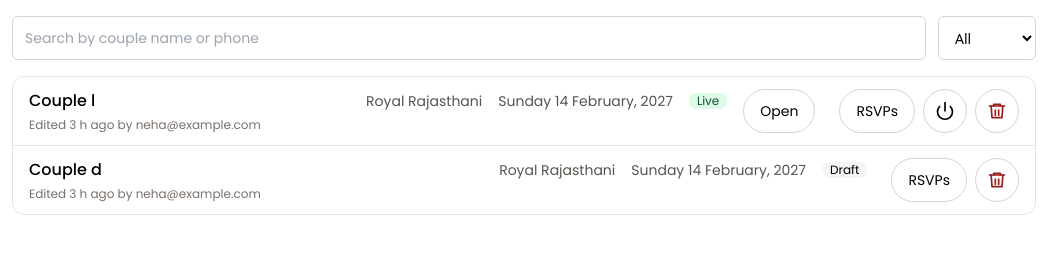
Test case: InvitationList › row actions › shows a conflict, a returned message, and the offline message on the row
Click the button named "Take offline: Couple l".
click(945, 111)  # box x1=923 y1=89 x2=967 y2=133
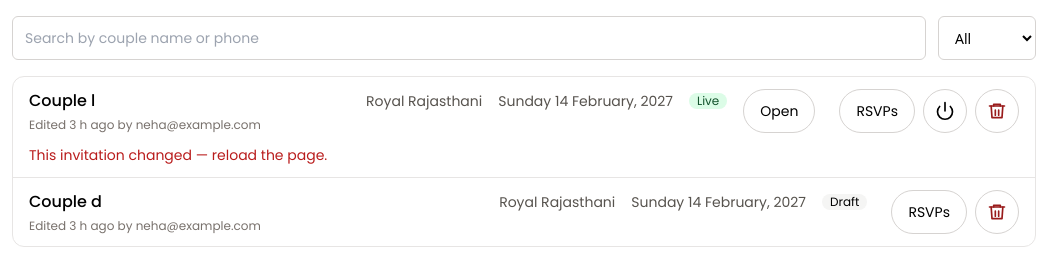
Result: the message reads "This invitation changed — reload the page." at x1=29 y1=145 x2=327 y2=165
Click the button named "Take offline: Couple l".
click(945, 111)  # box x1=923 y1=89 x2=967 y2=133
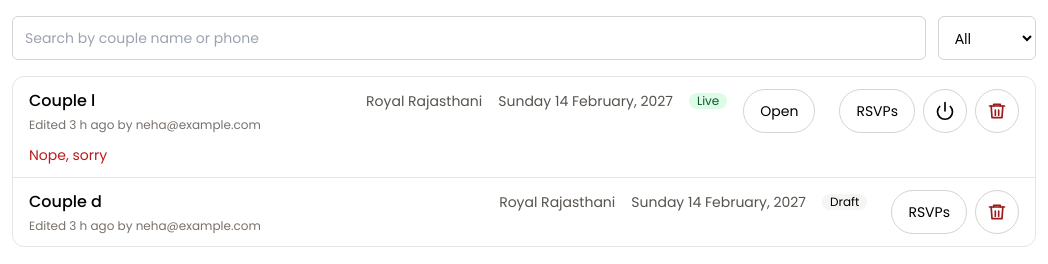
Result: the message reads "Nope, sorry" at x1=29 y1=145 x2=107 y2=165
Click the button named "Take offline: Couple l".
click(945, 111)  # box x1=923 y1=89 x2=967 y2=133
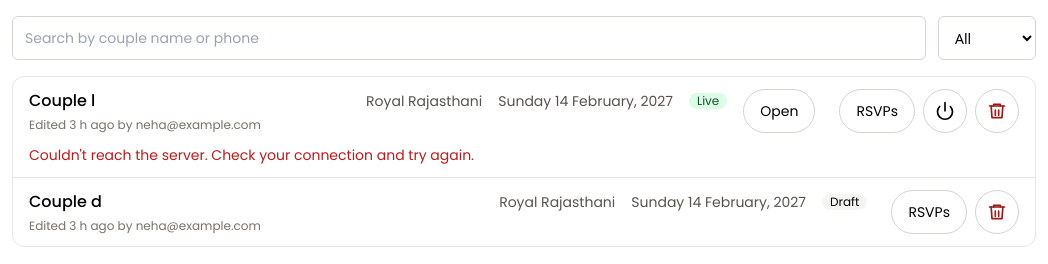
Expected: the text "Live" is shown, x1=689 y1=93 x2=727 y2=109
Result: the message reads "Couldn't reach the server. Check your connection and try again." at x1=29 y1=145 x2=474 y2=165
